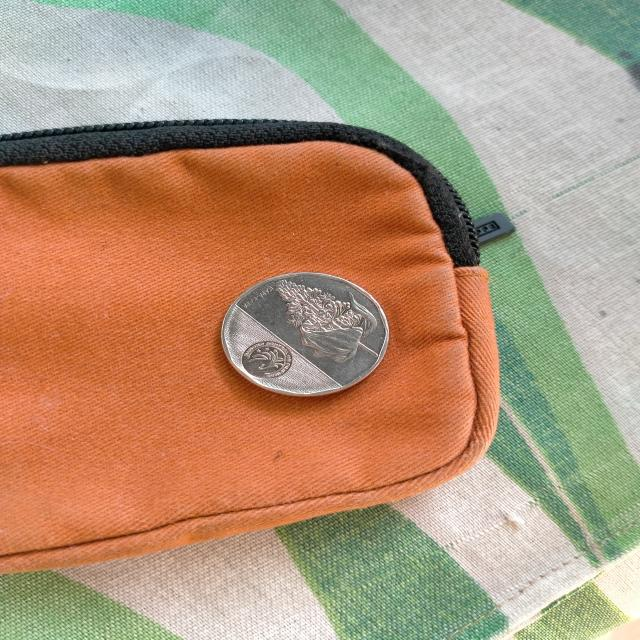10_New_Back: (262, 275, 381, 362)
